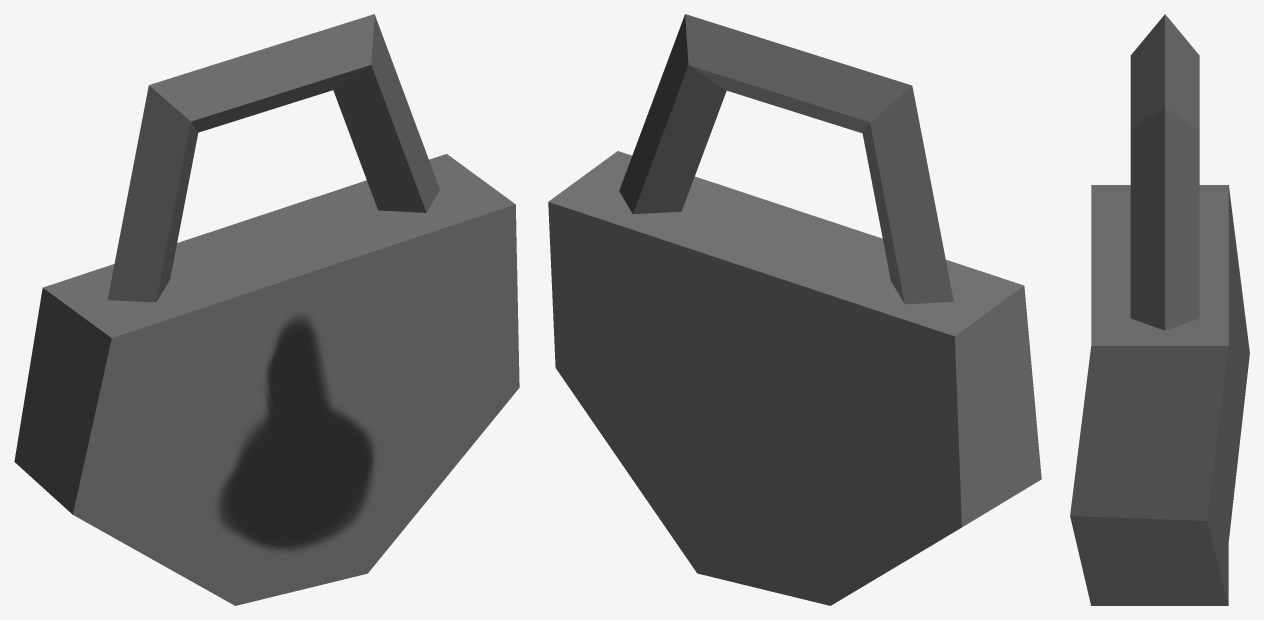
Rendered from LockAnimation.FBX.
3 renders of one model, left to right at view 1: azimuth 30°, elevation 25°; view 2: azimuth 150°, elevation 25°; view 3: azimuth 270°, elevation 25°, orthographic.
Parts seen in each view (by area): view 1: Box065; view 2: Box065; view 3: Box065.
Boxes of the visible parts, box(x1,y1,x2,y2) form: Box065: box(14, 14, 519, 605); Box065: box(548, 14, 1041, 605); Box065: box(1070, 14, 1249, 605).
Bounding box in the file's own units: 18.53 × 6.65 × 21.21.
